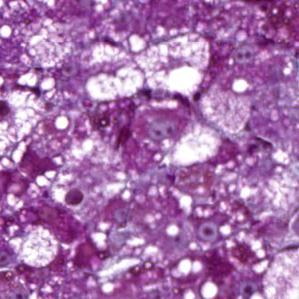ballooning: (134, 31, 211, 98)
